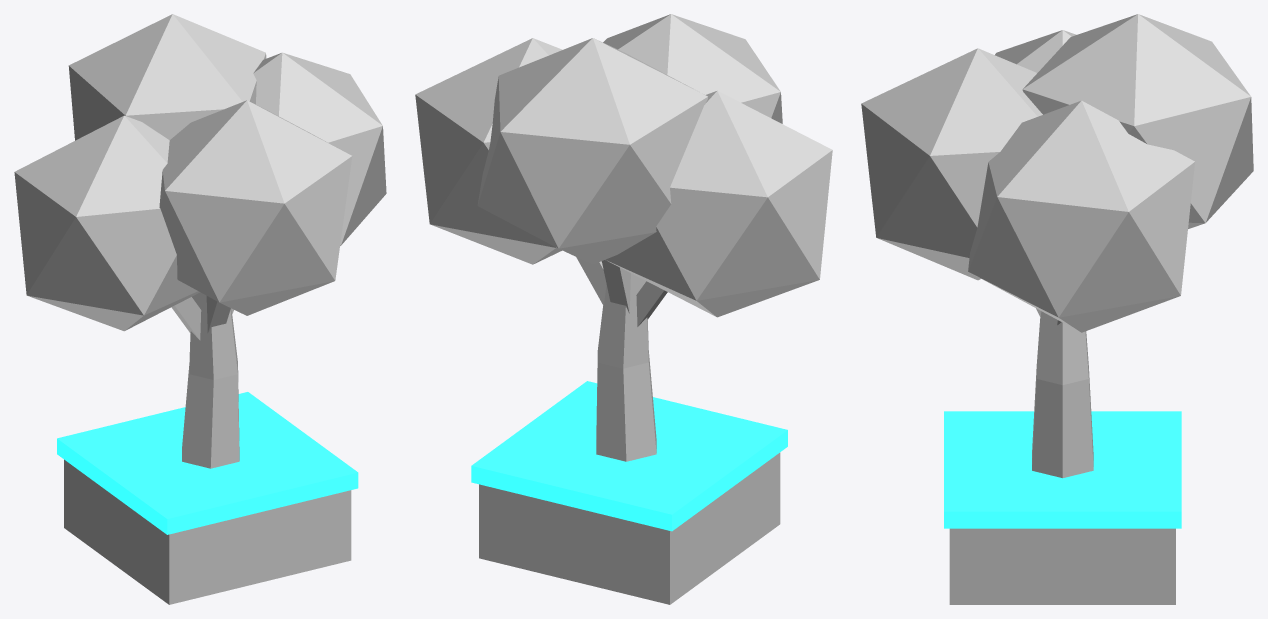
3 views of the same model, side by side, from view 1: azimuth 30°, elevation 25°; view 2: azimuth 150°, elevation 25°; view 3: azimuth 270°, elevation 25° (orthographic). The views are drawn at different scales.
Visible parts, largest first — view 1: Neon_PlanterTree_Simple; view 2: Neon_PlanterTree_Simple; view 3: Neon_PlanterTree_Simple.
Boxes of the visible parts, left/top/right/bottom form: Neon_PlanterTree_Simple: left=14, top=14, right=386, bottom=604; Neon_PlanterTree_Simple: left=415, top=14, right=832, bottom=604; Neon_PlanterTree_Simple: left=861, top=14, right=1253, bottom=604.
Size of the model in its own units: 2.36 by 3.18 by 2.08.
